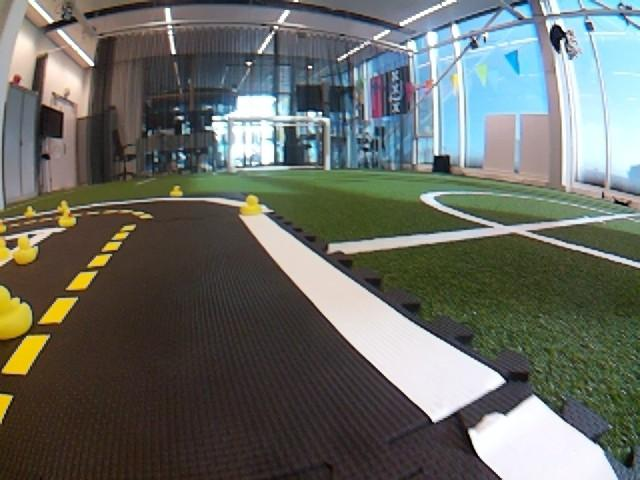Duckies: (0, 284, 31, 344), (10, 235, 39, 264), (238, 194, 263, 216), (58, 210, 75, 226), (0, 237, 9, 262), (169, 185, 184, 197), (24, 206, 37, 218), (56, 200, 69, 212), (0, 219, 6, 234)
